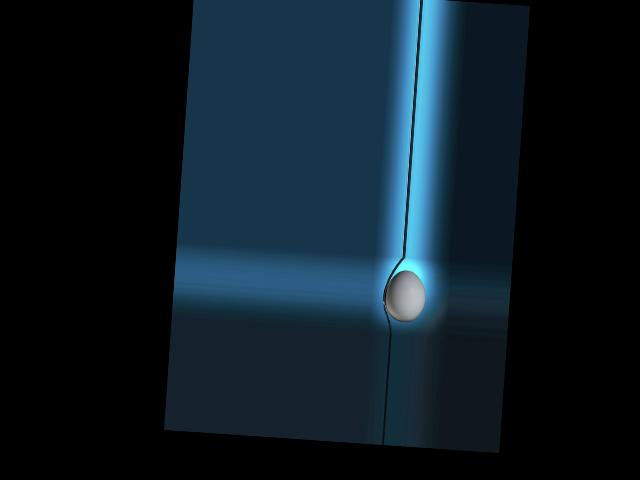egg: (383, 269, 426, 323)
